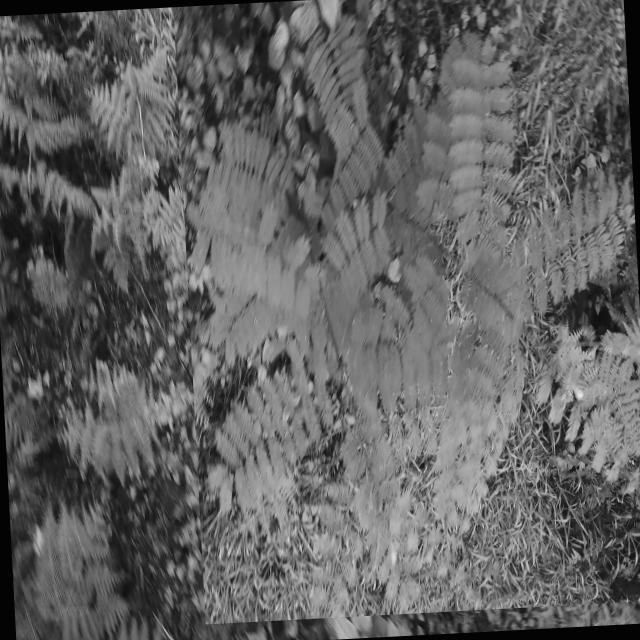Mysore-Thorn-Weed: (173, 0, 640, 624)
